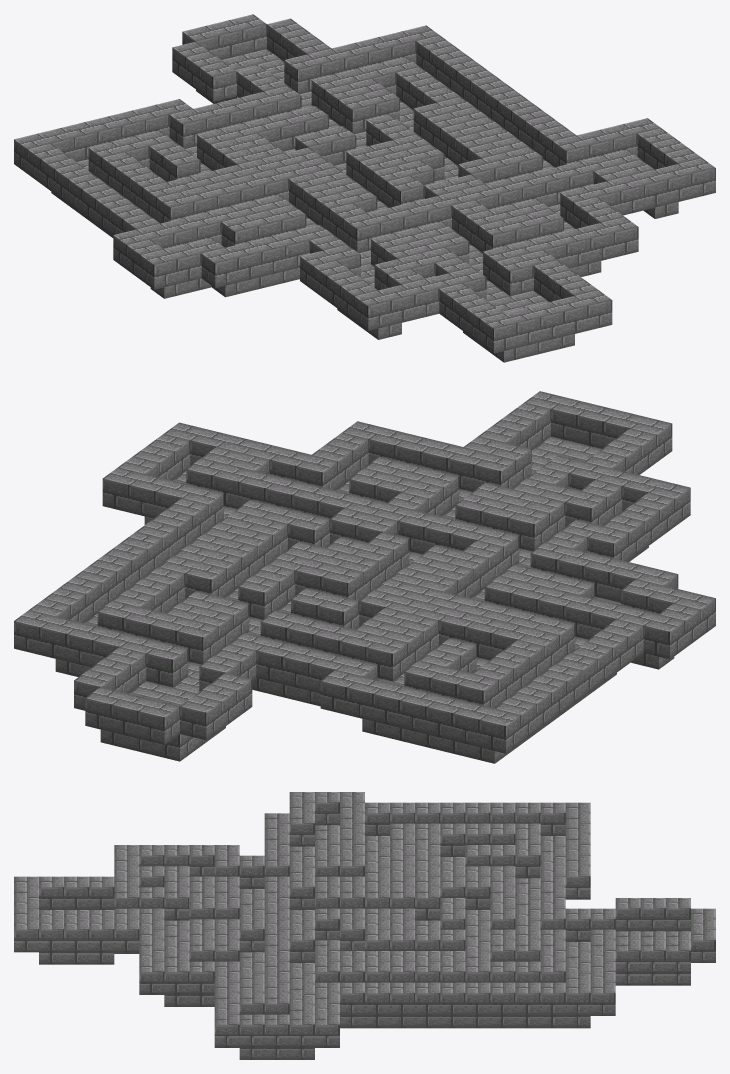
Rendered from Maze Test.obj.
3 renders of one model, top to bottom at view 1: azimuth 30°, elevation 25°; view 2: azimuth 150°, elevation 25°; view 3: azimuth 270°, elevation 25°, orthographic. The views are drawn at different scales.
Visible parts, largest first — view 1: Unity__-39_-64_31_to_-18_319_58; view 2: Unity__-39_-64_31_to_-18_319_58; view 3: Unity__-39_-64_31_to_-18_319_58.
Part boxes in pixels (box(x1,y1,x2,y2)): Unity__-39_-64_31_to_-18_319_58: box(14, 14, 715, 362); Unity__-39_-64_31_to_-18_319_58: box(14, 391, 715, 763); Unity__-39_-64_31_to_-18_319_58: box(14, 792, 715, 1059).
Bounding box in the file's own units: 88 × 8 × 112.
Materials: 1 (1 with a texture image).
